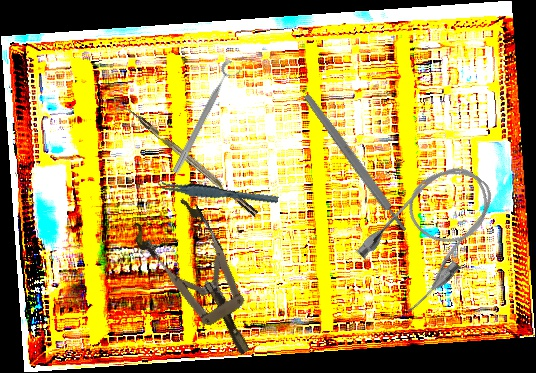Cannula: (349, 149, 514, 318)
Chopper: (114, 99, 259, 224)
Fixation Ring: (168, 58, 245, 179)
Scalpel Handle: (302, 92, 409, 234)
Speculum: (128, 191, 275, 372)
Tissue Forceps: (154, 166, 279, 218)
